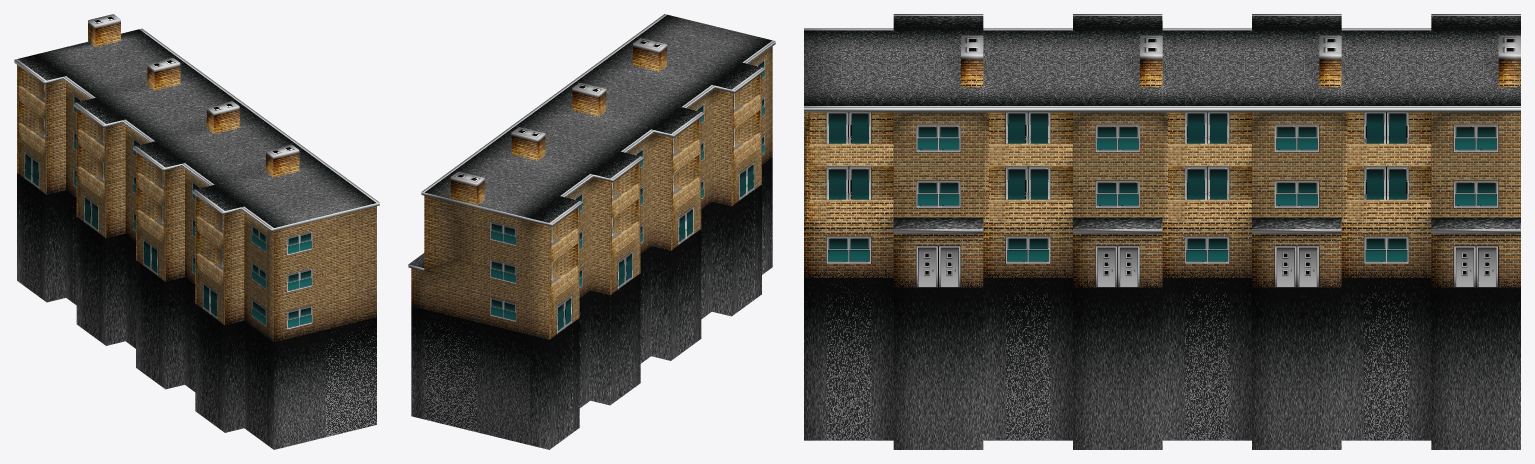
File: maisonet_mod3_3b.fbx
3 views of the same model, side by side, from view 1: azimuth 30°, elevation 25°; view 2: azimuth 150°, elevation 25°; view 3: azimuth 270°, elevation 25° (orthographic). The views are drawn at different scales.
Parts seen in each view (by area): view 1: maisonet_mod3_3b; view 2: maisonet_mod3_3b; view 3: maisonet_mod3_3b.
Part boxes in pixels (x1=…): maisonet_mod3_3b: x1=14, y1=14, x2=379, y2=449; maisonet_mod3_3b: x1=408, y1=14, x2=775, y2=449; maisonet_mod3_3b: x1=804, y1=14, x2=1520, y2=449.
Bounding box in the file's own units: 1231 × 2033 × 3600.
